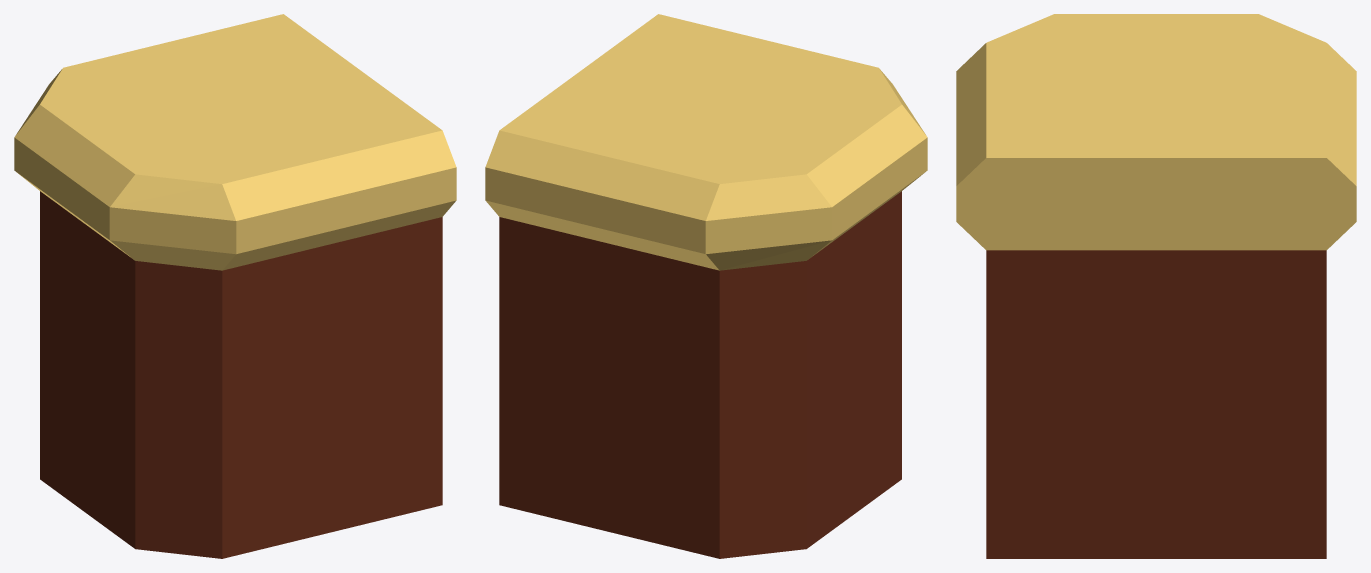
File: SandDCorner.fbx
3 renders of one model, left to right at view 1: azimuth 30°, elevation 25°; view 2: azimuth 150°, elevation 25°; view 3: azimuth 270°, elevation 25°, orthographic. The views are drawn at different scales.
Visible parts, largest first — view 1: Cube.006; view 2: Cube.006; view 3: Cube.006.
Part boxes in pixels (<box>): Cube.006: <box>14,14,456,558</box>; Cube.006: <box>485,14,927,558</box>; Cube.006: <box>956,14,1356,558</box>.
Size of the model in its own units: 219 by 260 by 235.
